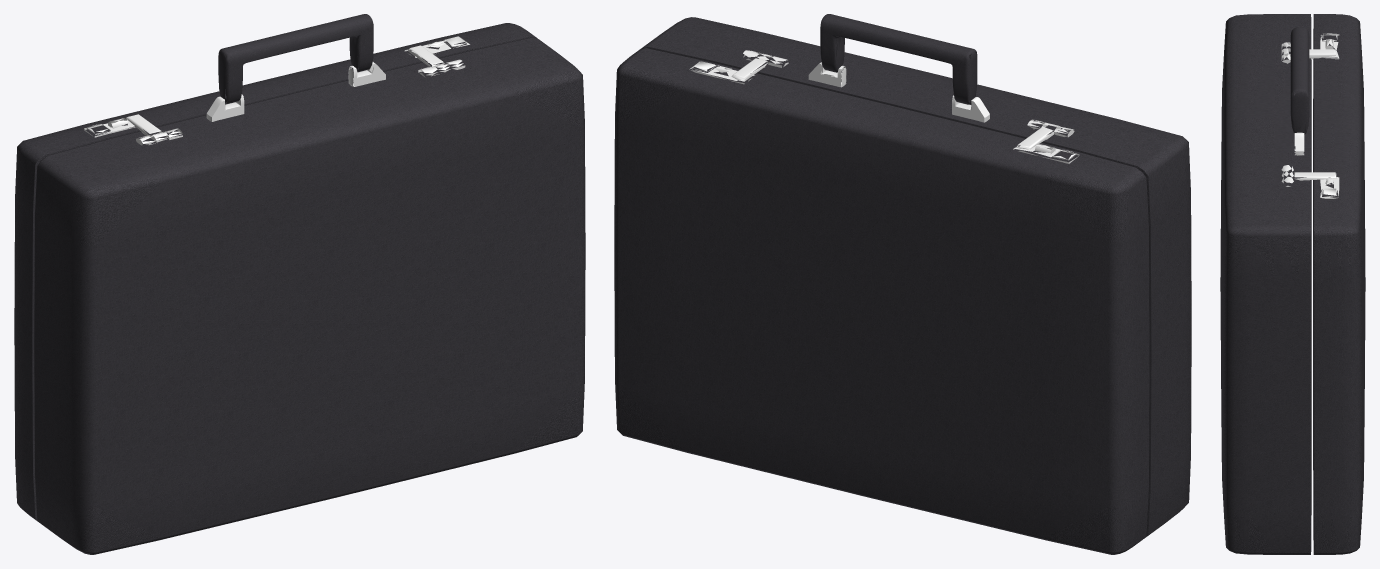
Rendered from briefcase.obj.
The picture shows the model from 3 angles, left to right: view 1: azimuth 30°, elevation 25°; view 2: azimuth 150°, elevation 25°; view 3: azimuth 270°, elevation 25°; orthographic projection. The views are drawn at different scales.
Visible parts, largest first — view 1: part1, part0; view 2: part1, part0; view 3: part1, part0.
Boxes of the visible parts, bbox=[...] form: part1: bbox=[14, 14, 585, 554]; part0: bbox=[84, 36, 469, 145]; part1: bbox=[614, 14, 1191, 554]; part0: bbox=[689, 50, 1079, 163]; part1: bbox=[1220, 14, 1365, 554]; part0: bbox=[1281, 33, 1339, 198].
Size of the model in its own units: 0.9 by 0.741 by 0.2477.
Materials: 2 (2 with a texture image).
